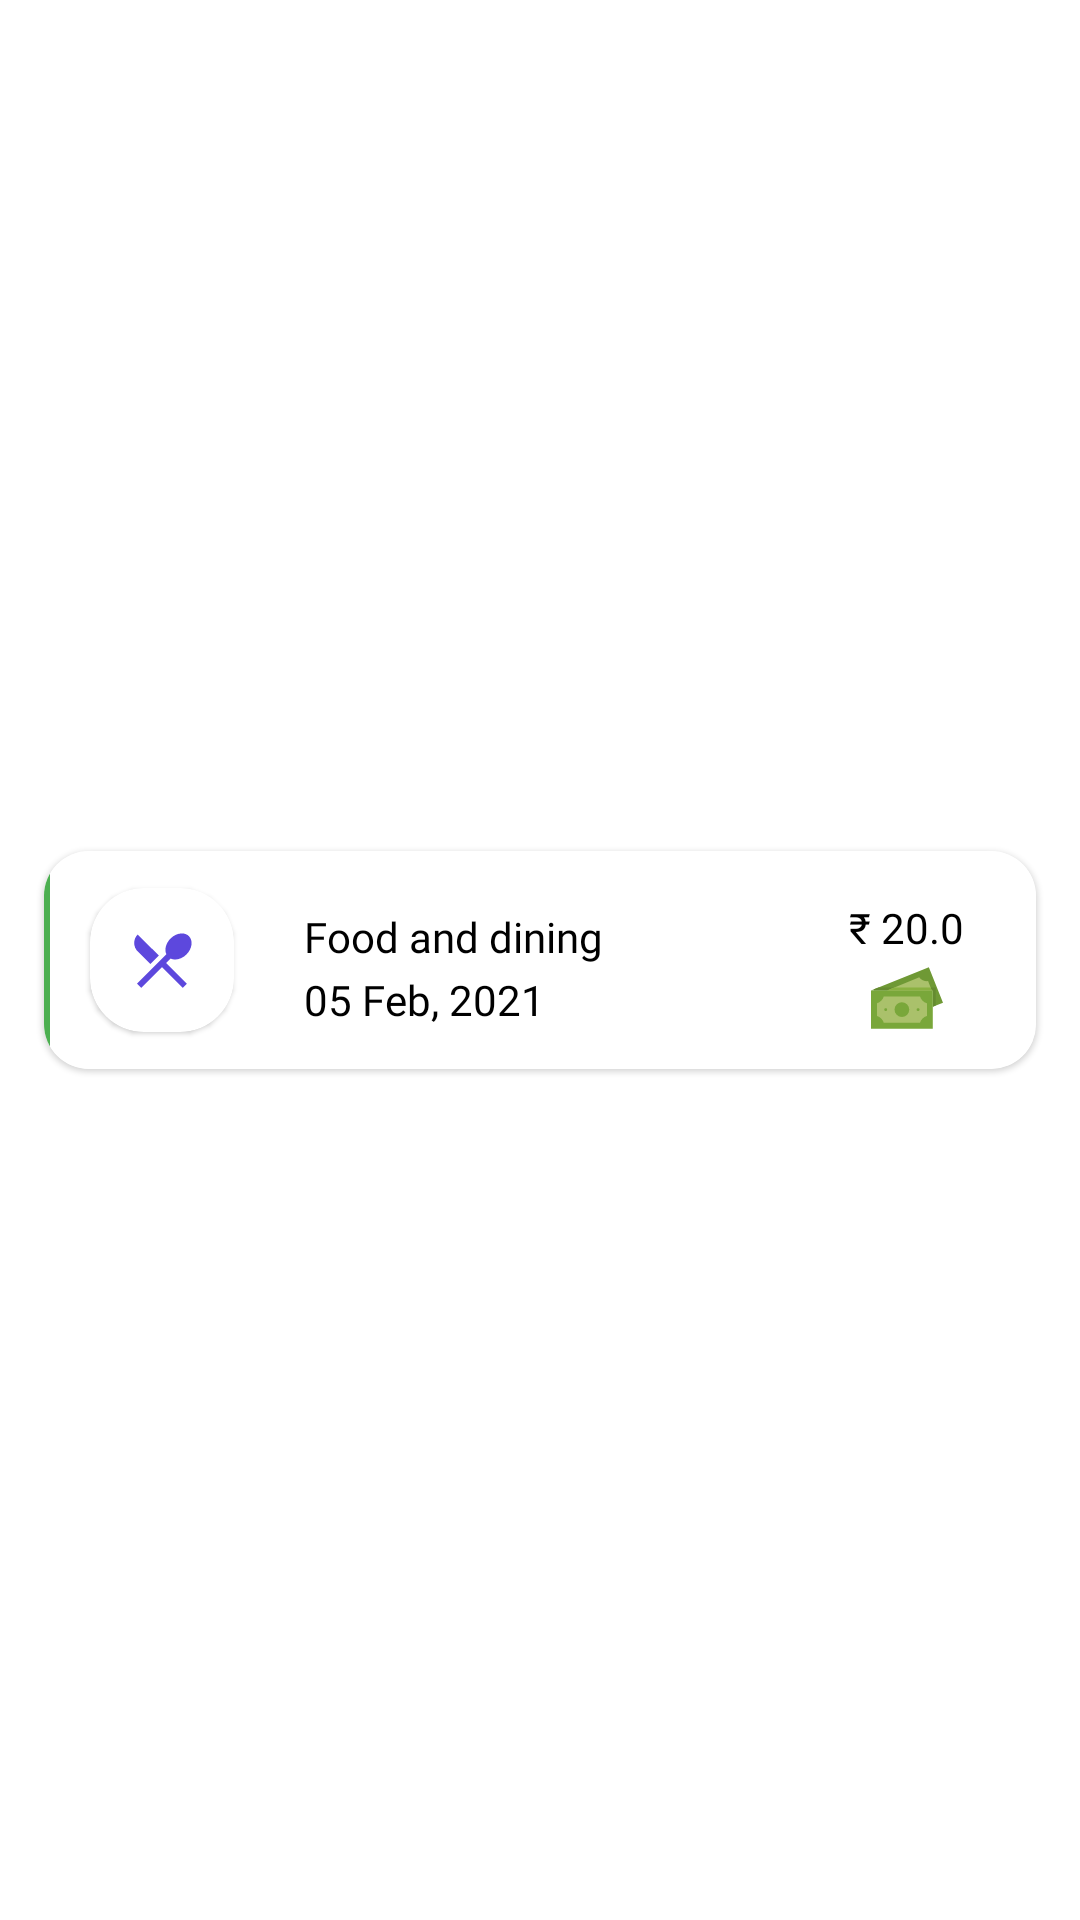

Where icons sit on this 1080 x 1920 app screen, as region(x1, y1, x2, y2):
cash: region(871, 967, 943, 1029)
local dining: region(134, 933, 192, 988)
